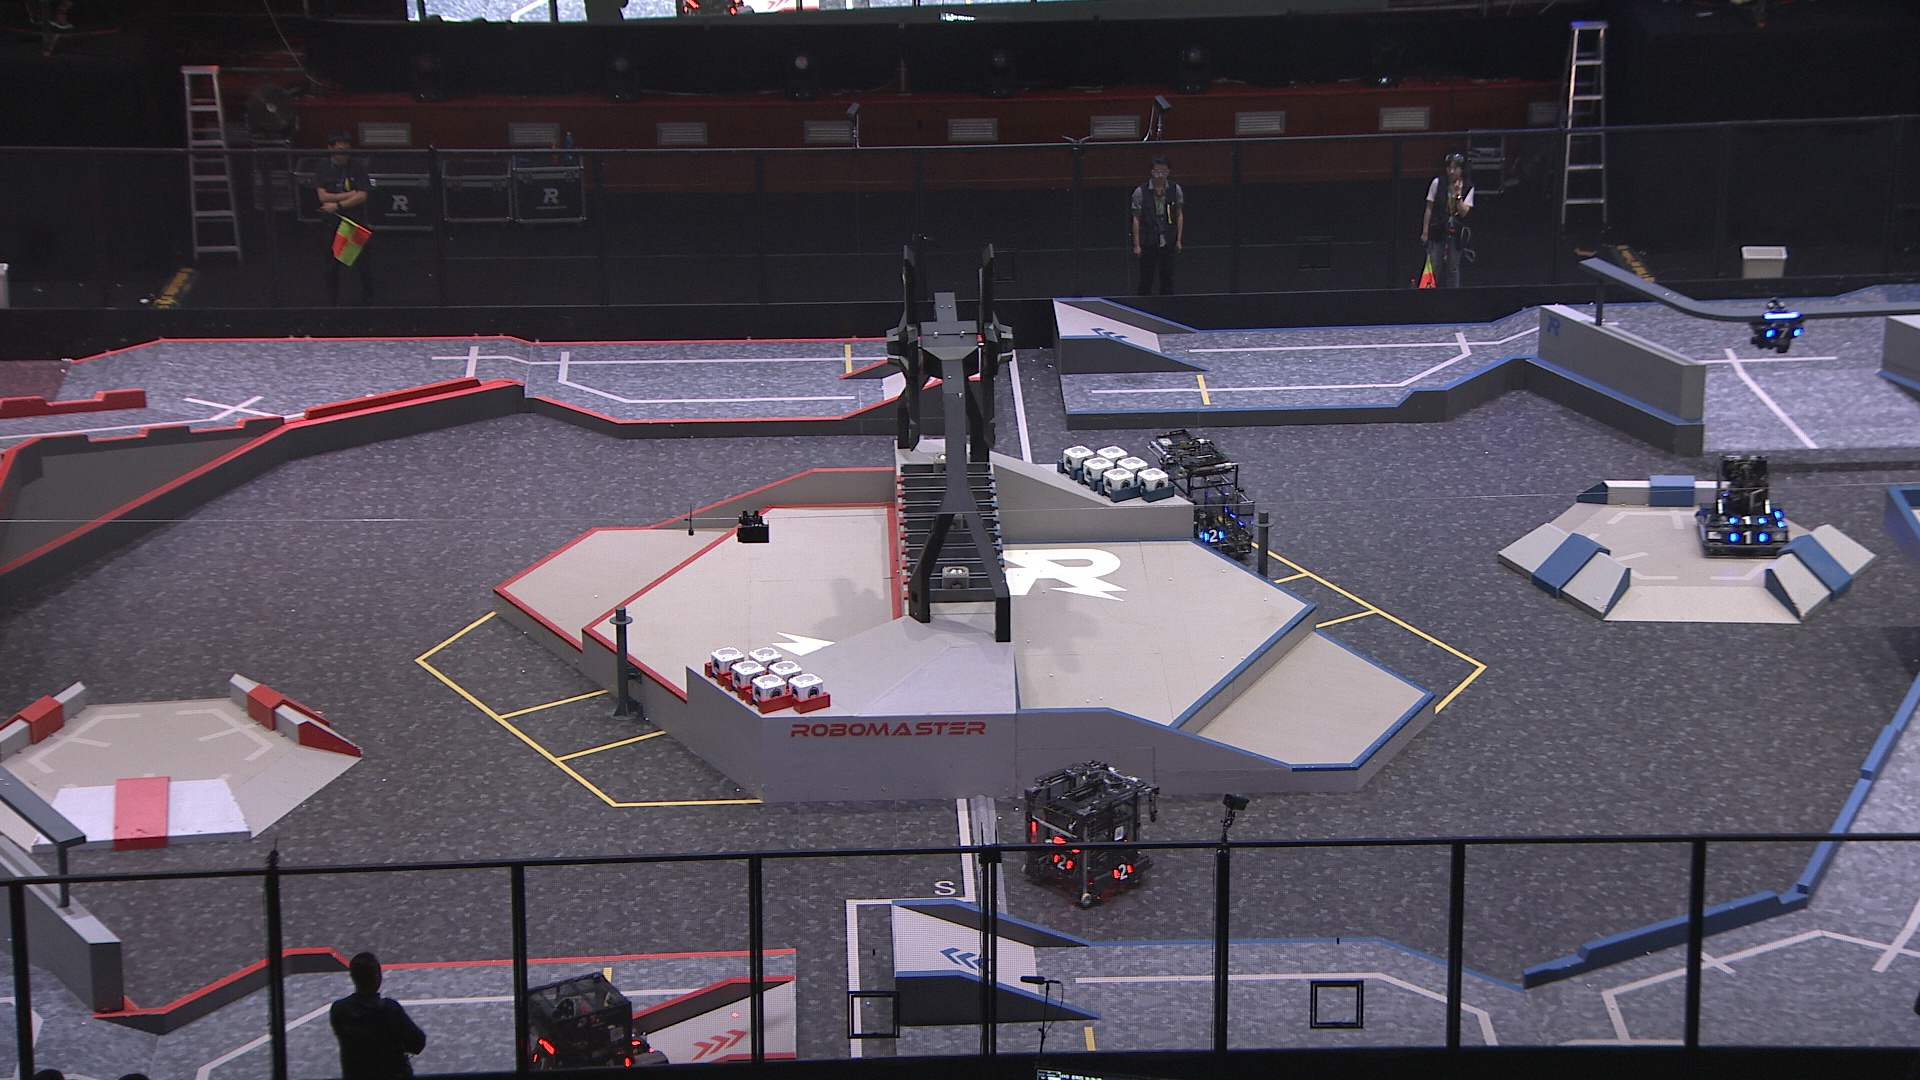armor: (1727, 527, 1766, 545), (1764, 324, 1801, 342), (599, 1054, 632, 1072), (1727, 512, 1762, 527), (529, 1052, 553, 1073), (1054, 851, 1073, 873), (1112, 861, 1133, 880), (1700, 509, 1717, 531), (1204, 527, 1224, 543), (629, 1027, 638, 1048)
car: (1019, 760, 1162, 905), (1135, 423, 1258, 571), (517, 973, 673, 1080), (1695, 452, 1797, 560)
watcher: (1746, 297, 1804, 352)
